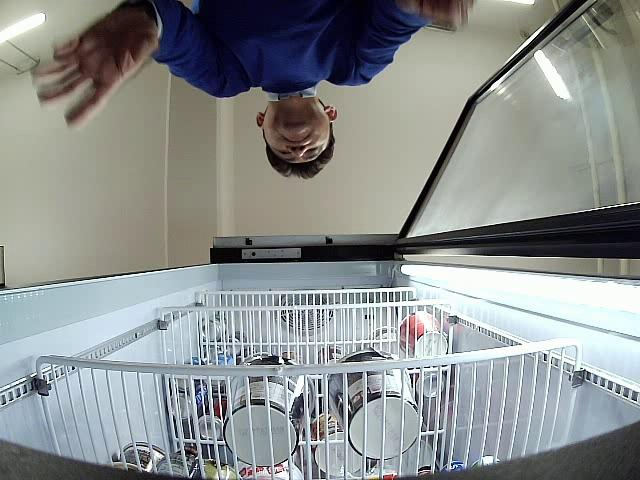00_hand: (32, 1, 161, 127), (397, 0, 478, 32)
